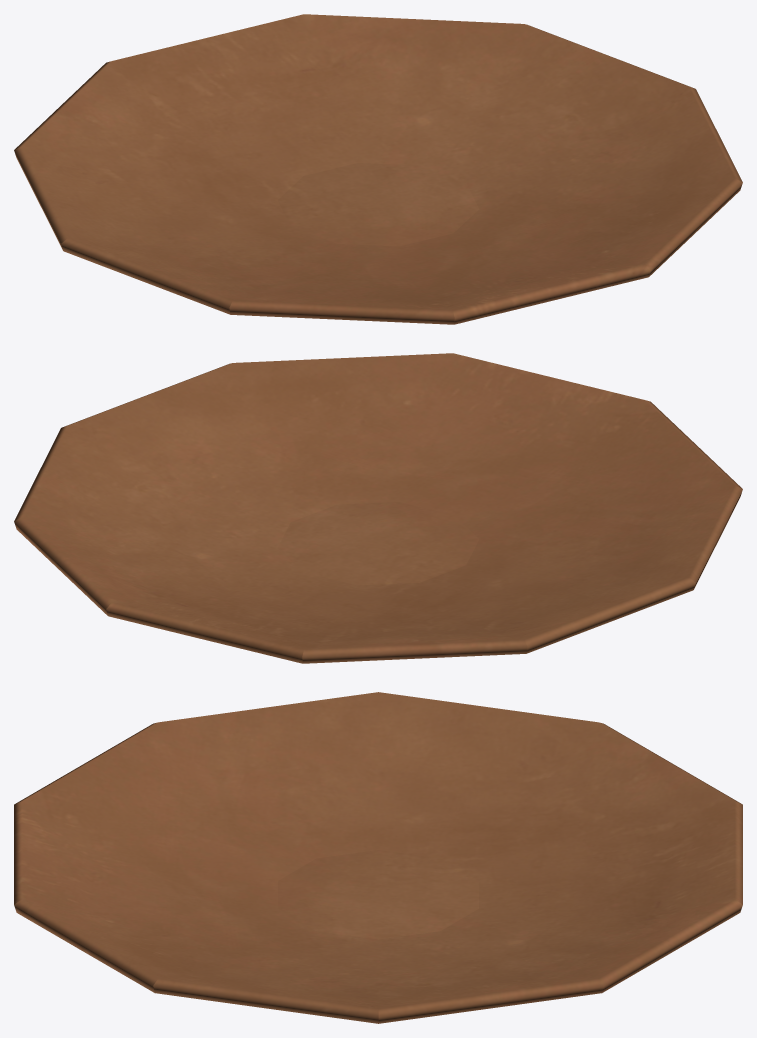
File: Plate.fbx
3 views of the same model, one above another, from view 1: azimuth 30°, elevation 25°; view 2: azimuth 150°, elevation 25°; view 3: azimuth 270°, elevation 25° (orthographic). The views are drawn at different scales.
Visible parts, largest first — view 1: Pottery_Plate; view 2: Pottery_Plate; view 3: Pottery_Plate.
Boxes of the visible parts, bbox=[...] form: Pottery_Plate: bbox=[14, 14, 742, 324]; Pottery_Plate: bbox=[14, 353, 742, 663]; Pottery_Plate: bbox=[14, 692, 742, 1023].
Size of the model in its own units: 15.79 by 1.21 by 15.02.
